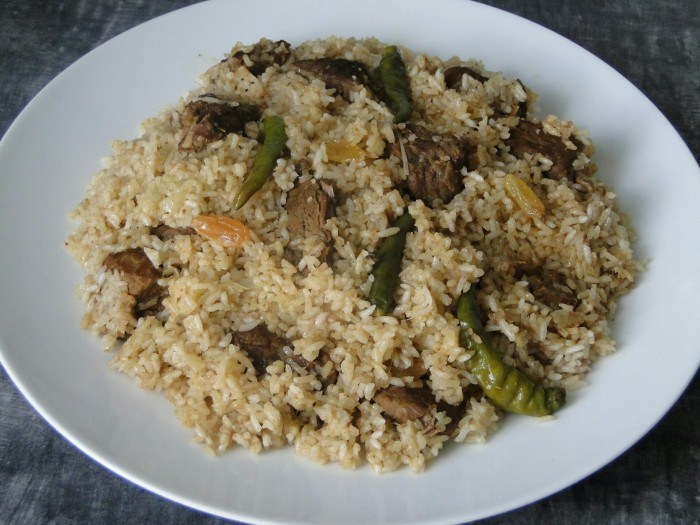tehari: (68, 36, 650, 468)
